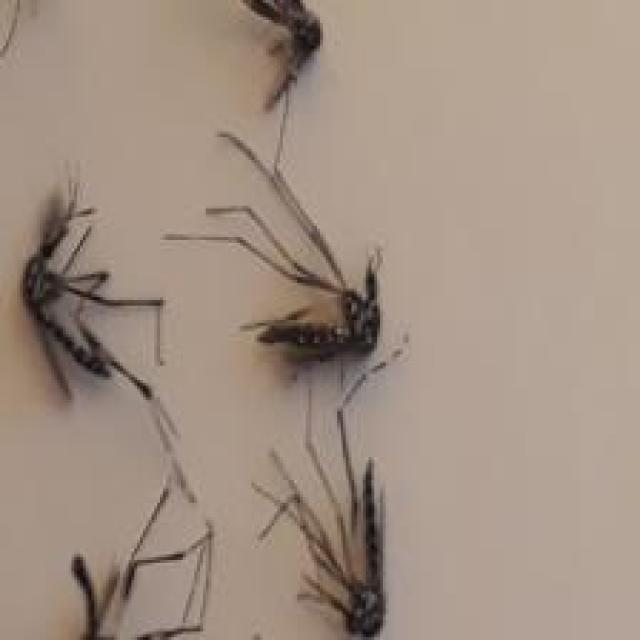Aedes albopictus: (162, 126, 387, 371)
